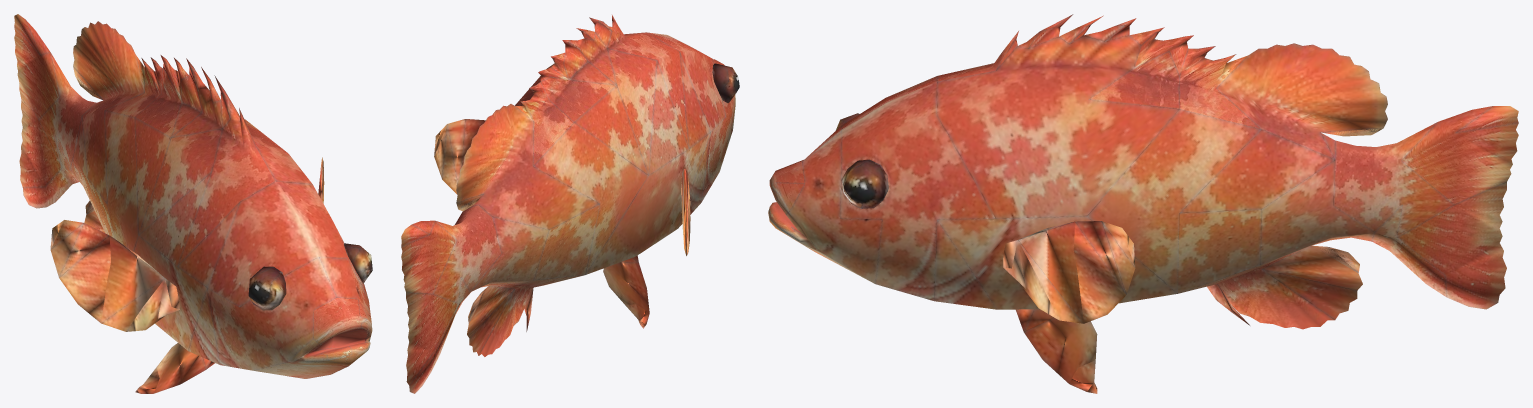
File: 石斑之影.glb
3 renders of one model, left to right at view 1: azimuth 30°, elevation 25°; view 2: azimuth 150°, elevation 25°; view 3: azimuth 270°, elevation 25°, orthographic. The views are drawn at different scales.
Visible parts, largest first — view 1: tripo_node_26f14a91-4feb-40b4-8587-db809bc2d087; view 2: tripo_node_26f14a91-4feb-40b4-8587-db809bc2d087; view 3: tripo_node_26f14a91-4feb-40b4-8587-db809bc2d087.
Boxes of the visible parts, left/top/right/bottom form: tripo_node_26f14a91-4feb-40b4-8587-db809bc2d087: left=14, top=14, right=372, bottom=393; tripo_node_26f14a91-4feb-40b4-8587-db809bc2d087: left=401, top=15, right=739, bottom=393; tripo_node_26f14a91-4feb-40b4-8587-db809bc2d087: left=768, top=14, right=1518, bottom=393.
Bounding box in the file's own units: 0.4668 × 0.502 × 0.998.
1 material, 1 textured.
